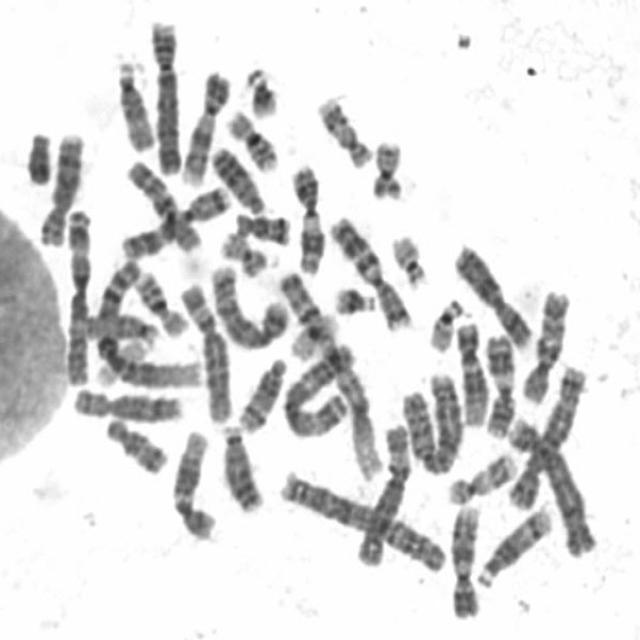A1: (272, 260, 385, 483), (87, 254, 206, 390)
A2: (272, 462, 450, 575), (394, 362, 467, 477)
A3: (276, 333, 360, 441), (58, 198, 94, 388)
B4: (502, 407, 600, 558), (143, 10, 184, 176)
B5: (501, 357, 590, 512), (203, 256, 291, 351)
C10: (120, 151, 204, 255), (515, 279, 573, 404)
C11: (284, 154, 326, 276), (477, 325, 518, 439)
C12: (165, 422, 219, 542), (450, 313, 490, 427)
C6: (348, 413, 414, 570), (172, 273, 234, 425)
C7: (322, 206, 414, 331), (116, 177, 232, 261)
C8: (32, 123, 87, 249), (65, 379, 185, 425)
C9: (173, 63, 233, 187), (443, 495, 484, 621)
D13: (213, 416, 266, 514), (204, 137, 268, 216)
D14: (470, 498, 555, 590), (231, 348, 289, 434)
D15: (109, 50, 158, 154), (78, 303, 160, 347)
E16: (129, 261, 190, 339), (219, 100, 281, 174)
E17: (310, 87, 374, 170), (439, 443, 520, 506)
E18: (98, 408, 171, 477), (228, 203, 294, 246)
F19: (89, 331, 151, 389), (282, 303, 341, 361)
F20: (214, 222, 269, 278), (365, 130, 406, 202)
G21: (239, 58, 282, 120), (326, 278, 379, 318)
G22: (384, 224, 431, 288), (421, 288, 466, 354)
X: (446, 234, 536, 350)
Y: (18, 122, 54, 187)
